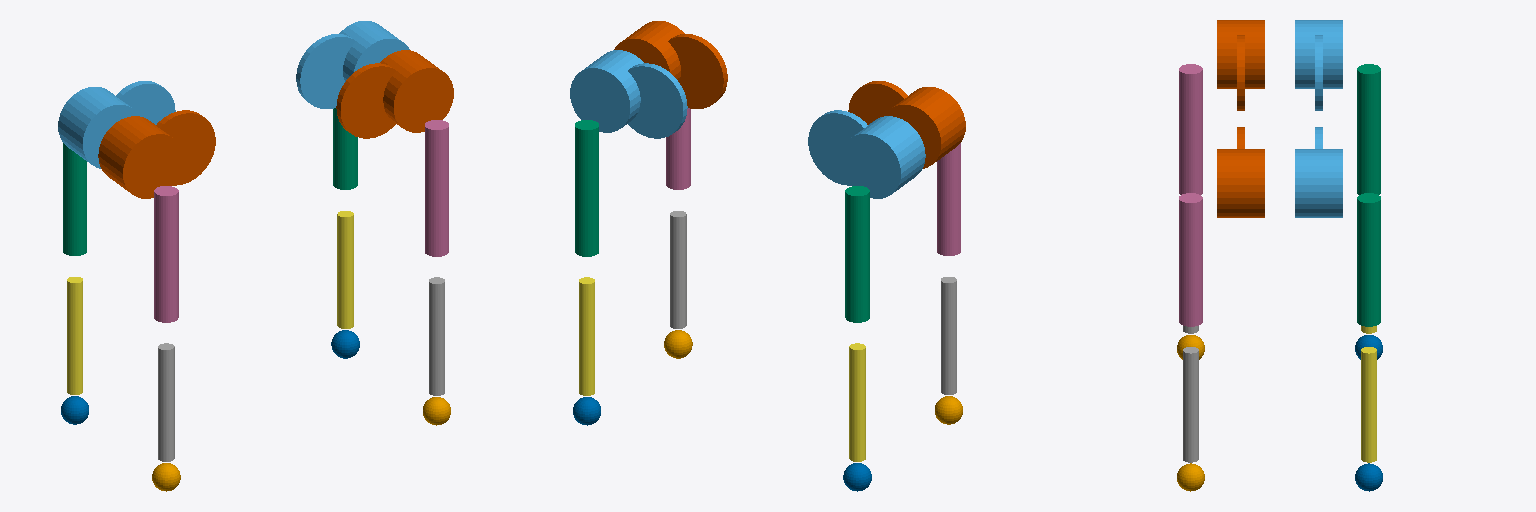
robot.urdf — mini_cheetah:
<?xml version="1.0" ?>
<robot name="mini_cheetah" xmlns:xacro="http://ros.org/wiki/xacro">



<!--!!!!!!!!!!!!!!!!!!BODY!!!!!!!!!!!!!!!!!!!!!!!!!!!!!!!-->
  <link name="body">
        <inertial>
            <!-- <mass value="3.3"/> -->
            <!-- <origin xyz="0.0 0.0 0.0"/> -->
            <origin xyz="-0.0233 0.0078 0.0414"/>
            <mass value="4.79"/>
            <!-- <inertia ixx="0.011253" ixy="0" ixz="0" iyy="0.036203" iyz="0" izz="0.042673"/> -->
            <inertia ixx="0.0358" ixy="0.0047" ixz="0.0090" iyy="0.0755" iyz="-0.0029" izz="0.0651"/>
        </inertial>
        <visual>
            <geometry>
              <mesh filename="meshes/mini_body.obj"/>
	        <!-- <box size="0.23 0.18 0.1"/>x` -->
            </geometry>
            <!-- <origin rpy="0.0 0.0 0.0" xyz="0.0 0.0 0.0"/> -->
            <origin rpy="0.0 0.0 0.0" xyz="-0.0233 0.0078 0.0414"/>
        </visual>
        <collision>
            <geometry>
              <!--mesh filename="meshes/mini_body.stl"/-->
	      <box size="0.23 0.18 0.1"/>
            </geometry>
            <!-- <origin rpy="0 0 0" xyz="0 0 0"/> -->
            <origin rpy="0.0 0.0 0.0" xyz="-0.0233 0.0078 0.0414"/>
        </collision>
    </link>           	

<!--!!!!!!!!!!!! Front Left Leg !!!!!!!!!!!!!!!!!!!!!!!!!!!!!!!!!!!!-->
    <joint name="torso_to_abduct_fl_j" type="revolute">
        <axis xyz="1 0 0"/>
        <origin rpy="0 0 0" xyz="0.19 0.049 0.0"/>
        <parent link="body"/>
        <child link="abduct_fl"/>
	<limit effort="18" lower="-1.6" upper="1.6" velocity="40"/>
    </joint>
    <link name="abduct_fl">
        <inertial>
            <mass value="0.54"/>
            <origin xyz="0.0 0.036 0."/>
            <inertia ixx="0.000381" ixy="0.000058" ixz="0.00000045" 
                iyy="0.000560" iyz="0.00000095" izz="0.000444"/>
        </inertial>
        <visual>
            <geometry>
              <!--mesh filename="meshes/mini_abad.stl"/-->
	      <cylinder length ="0.01" radius = "0.0475"/>
            </geometry>
            <origin rpy="0. 1.5708 -1.5708" xyz="-0.055 0.0 0.0"/>
        </visual>
	<visual>
            <geometry>
              <!-- mesh filename="meshes/mini_abad.stl"/ -->
	      <cylinder length ="0.06" radius = "0.0425"/>
            </geometry>
            <!--origin rpy="3.141592 0.0 1.5708" xyz="-0.055 0.0 0.0"/-->
	    <origin rpy="1.5708 0.0 0.0" xyz="0.0 0.0 0.0"/>
        </visual>
        <collision>
            <geometry>
              <!--mesh filename="meshes/mini_abad.stl"/-->
	      <cylinder length ="0.01" radius = "0.0475"/>
            </geometry>
            <!--origin rpy="0 0 -1.5708" xyz="-0.055 0 0"/-->
	    <origin rpy="0 1.5708 -1.5708" xyz="-0.055 0.0 0.0"/>
        </collision>
	<collision>
            <geometry>
              <!--mesh filename="meshes/mini_abad.stl"/-->
	      <cylinder length ="0.06" radius = "0.0425"/>
            </geometry>
            <!--origin rpy="0 0 -1.5708" xyz="-0.055 0 0"/-->
	    <origin rpy="1.5708 0.0 0.0" xyz="0.0 0.0 0.0"/>
        </collision>
    </link>

    <joint name="abduct_fl_to_thigh_fl_j" type="revolute">
        <axis xyz="0 1 0"/>
        <origin rpy="0.0 0.0 3.1415" xyz="0.0 0.062 0.00"/>
        <parent link="abduct_fl"/>
        <child link="thigh_fl"/>
	<limit effort="18" lower="-2.6" upper="2.6" velocity="40"/>
    </joint>
    <link name="thigh_fl">
        <inertial>
            <mass value="0.634"/>
            <origin xyz="0.0 0.016 -0.02"/>
            <inertia ixx="0.001983" ixy="0.000245" ixz="0.000013" 
                iyy="0.002103" iyz="0.0000015" izz="0.000408"/>
        </inertial>
        <visual>
            <geometry>
              <!--mesh filename="meshes/mini_upper_link.stl"/-->
	      <cylinder length ="0.17" radius = "0.015"/>
            </geometry>
            <origin rpy="0.0 0.0 0.0" xyz="0.0 0.0 -0.105"/>
        </visual>
        <collision>
            <geometry>
              <!--mesh filename="meshes/mini_upper_link.stl"/-->
	      <cylinder length ="0.17" radius = "0.015"/>
            </geometry>
            <origin rpy="0.0 0.0 0.0" xyz="0.0 0.0 -0.105"/>
        </collision>
    </link>

    <joint name="thigh_fl_to_knee_fl_j" type="revolute">
        <axis xyz="0 1 0"/>
        <origin rpy="0.0 0 0.0" xyz="0.0 0.0 -0.209"/>
        <parent link="thigh_fl"/>
        <child link="shank_fl"/>
	<limit effort="26" lower="-2.6" upper="2.6" velocity="26"/>
    </joint>
    <link name="shank_fl">
        <inertial>
            <mass value="0.064"/>
            <origin xyz="0.0 0.0 -0.061"/>
            <inertia ixx="0.000245" ixy="0" ixz="0.0" iyy="0.000248" iyz="0" izz="0.000006"/>
        </inertial>
        <visual>
            <geometry>
              <!--mesh filename="meshes/mini_lower_link.stl"/-->
	      <cylinder length ="0.15" radius = "0.01"/>
            </geometry>
            <origin rpy="0.0 3.141592 0.0" xyz="0.0 0.0 -0.095"/>
        </visual>
        <collision>
            <geometry>
              <!--mesh filename="meshes/mini_lower_link.stl"/-->
	      <cylinder length ="0.15" radius = "0.01"/>
            </geometry>
            <origin rpy="0.0 3.141592 0.0" xyz="0 0 -0.095"/>
        </collision>
    </link>
    <!-- Adapter to Foot joint -->
    <joint name="fixed_shank_to_foot" type="fixed">
        <parent link="shank_fl"/>
        <child link="foot_fl"/>
        <origin rpy="0.0 0.0 0.0" xyz="0.0 0.0 -0.195"/>
    </joint>
    <link name="foot_fl">
	<visual>
            <geometry>
              <sphere radius = "0.0175"/>
            </geometry>
            <origin rpy="0.0 3.141592 0.0" xyz="0.0 0.0 0.0"/>
        </visual>
	<collision>
            <geometry>
              <!--mesh filename="meshes/mini_lower_link.stl"/-->
	      <sphere radius = "0.0175"/>
            </geometry>
            <origin rpy="0.0 3.141592 0.0" xyz="0 0 0"/>
        </collision>
    </link>

 <!--!!!!!!!!!!!! Front Right Leg !!!!!!!!!!!!!!!!!!!!!!!!!!!!!!!!!!!!-->

    <!--!!!!Joint!!!!!!!!!!!!-->
    <joint name="torso_to_abduct_fr_j" type="revolute">
        <axis xyz="1 0 0"/>
        <origin rpy="0 0 0" xyz="0.19 -0.049 0.0"/>
        <parent link="body"/>
        <child link="abduct_fr"/>
	<limit effort="18" lower="-1.6" upper="1.6" velocity="40"/>
    </joint>
    <link name="abduct_fr">
        <inertial>
            <mass value="0.54"/>
            <origin xyz="0.0 -0.036 0."/>
            <inertia ixx="0.000381" ixy="-0.000058" ixz="0.00000045" 
                iyy="0.000560" iyz="-0.00000095" izz="0.000444"/>
        </inertial>
        <visual>
            <geometry>
              <!--mesh filename="meshes/mini_abad.stl"/-->
	      <cylinder length ="0.01" radius = "0.0475"/>
            </geometry>
            <!--origin rpy="3.141592 0.0 1.5708" xyz="-0.055 0.0 0.0"/-->
	    <origin rpy="3.141592 1.5708 1.5708" xyz="-0.055 0.0 0.0"/>
        </visual>
	<visual>
            <geometry>
              <!--mesh filename="meshes/mini_abad.stl"/-->
	      <cylinder length ="0.06" radius = "0.0425"/>
            </geometry>
            <!--origin rpy="3.141592 0.0 1.5708" xyz="-0.055 0.0 0.0"/-->
	    <origin rpy="1.5708 0.0 0.0" xyz="0.0 0.0 0.0"/>
        </visual>
        <collision>
            <geometry>
              <!--mesh filename="meshes/mini_abad.stl"/-->
	      <cylinder length ="0.01" radius = "0.0475"/>
            </geometry>
            <origin rpy="3.141592 1.5708 1.5708" xyz="-0.055 0 0"/>
        </collision>
	<collision>
            <geometry>
              <!--mesh filename="meshes/mini_abad.stl"/-->
	      <cylinder length ="0.06" radius = "0.0425"/>
            </geometry>
            <origin rpy="1.5708 0.0 0.0" xyz="-0.055 0 0"/>
        </collision>
    </link>

    <joint name="abduct_fr_to_thigh_fr_j" type="revolute">
        <axis xyz="0 1 0"/>
        <origin rpy="0.0 0.0 3.1415" xyz="0.0 -0.062 0.00"/>
        <parent link="abduct_fr"/>
        <child link="thigh_fr"/>
	<limit effort="18" lower="-2.6" upper="2.6" velocity="40"/>
    </joint>
    <link name="thigh_fr">
        <inertial>
            <mass value="0.634"/>
            <origin xyz="0.0 -0.016 -0.02"/>
            <inertia ixx="0.001983" ixy="-0.000245" ixz="0.000013" 
                iyy="0.002103" iyz="-0.0000015" izz="0.000408"/>
        </inertial>
        <visual>
            <geometry>
              <!--mesh filename="meshes/mini_upper_link.stl"/-->
	      <cylinder length ="0.17" radius = "0.015"/>
            </geometry>
            <origin rpy="0.0 0.0 0.0" xyz="0.0 0.0 -0.105"/>
        </visual>
        <collision>
            <geometry>
              <!--mesh filename="meshes/mini_upper_link.stl"/-->
	      <cylinder length ="0.17" radius = "0.015"/>
            </geometry>
            <origin rpy="0.0 0.0 0.0" xyz="0.0 0.0 -0.105"/>
        </collision>
    </link>

    <joint name="thigh_fr_to_knee_fr_j" type="revolute">
        <axis xyz="0 1 0"/>
        <origin rpy="0.0 0 0.0" xyz="0.0 0.0 -0.209"/>
        <parent link="thigh_fr"/>
        <child link="shank_fr"/>
	<limit effort="26" lower="-2.6" upper="2.6" velocity="26"/>
    </joint>
    <link name="shank_fr">
        <inertial>
            <mass value="0.064"/>
            <origin xyz="0.0 0.0 -0.061"/>
            <inertia ixx="0.000245" ixy="0" ixz="0.0" iyy="0.000248" iyz="0" izz="0.000006"/>
        </inertial>
        <visual>
            <geometry>
              <!--mesh filename="meshes/mini_lower_link.stl"/-->
	      <cylinder length ="0.15" radius = "0.01"/>
            </geometry>
            <origin rpy="0.0 3.141592 0.0" xyz="0.0 0.0 -0.095"/>
        </visual>
        <collision>
            <geometry>
              <!--mesh filename="meshes/mini_lower_link.stl"/-->
	      <cylinder length ="0.15" radius = "0.01"/>
            </geometry>
            <origin rpy="0.0 3.141592 0.0" xyz="0.0 0.0 -0.095"/>
        </collision>
    </link>

    <!-- Adapter to Foot joint -->
    <joint name="fixed_shank_to_foot_fr" type="fixed">
        <parent link="shank_fr"/>
        <child link="foot_fr"/>
        <origin rpy="0.0 0.0 0.0" xyz="0.0 0.0 -0.195"/>
    </joint>

    <link name="foot_fr">
	<visual>
            <geometry>
              <sphere radius = "0.0175"/>
            </geometry>
            <origin rpy="0.0 3.141592 0.0" xyz="0.0 0.0 0.0"/>
        </visual>
	<collision>
            <geometry>
              <!--mesh filename="meshes/mini_lower_link.stl"/-->
	       <sphere radius = "0.0175"/>
            </geometry>
            <origin rpy="0.0 3.141592 0" xyz="0.0 0.0 0"/>
        </collision>
    </link>


<!--!!!!!!!!!!!! Hind Left Leg !!!!!!!!!!!!!!!!!!!!!!!!!!!!!!!!!!!!-->
    <joint name="torso_to_abduct_hl_j" type="revolute">
        <axis xyz="1 0 0"/>
        <origin rpy="0 0 0" xyz="-0.19 0.049 0.0"/>
        <parent link="body"/>
        <child link="abduct_hl"/>
	<limit effort="18" lower="-1.6" upper="1.6" velocity="40"/>
    </joint>
    <link name="abduct_hl">
        <inertial>
            <mass value="0.54"/>
            <origin xyz="0.0 0.036 0."/>
            <inertia ixx="0.000381" ixy="0.000058" ixz="0.00000045" 
                iyy="0.000560" iyz="0.00000095" izz="0.000444"/>
        </inertial>
        <visual>
            <geometry>
              <!--mesh filename="meshes/mini_abad.stl"/-->
	      <cylinder length ="0.01" radius = "0.0475"/>
            </geometry>
            <!--origin rpy="3.141592 0.0 -1.5708" xyz="0.055 0.0 0.0"/-->
	    <origin rpy="3.141592 1.5708 -1.5708" xyz="0.055 0.0 0.0"/>
        </visual>
	<visual>
            <geometry>
              <!--mesh filename="meshes/mini_abad.stl"/-->
	      <cylinder length ="0.06" radius = "0.0425"/>
            </geometry>
            <!--origin rpy="3.141592 0.0 1.5708" xyz="-0.055 0.0 0.0"/-->
	    <origin rpy="1.5708 0.0 0.0" xyz="0.0 0.0 0.0"/>
        </visual>
        <collision>
            <geometry>
              <!--mesh filename="meshes/mini_abad.stl"/-->
	      <cylinder length ="0.01" radius = "0.0475"/>
            </geometry>
            <origin rpy="3.141592 1.5708 -1.5708" xyz="0.055 0 0"/>
        </collision>
	<collision>
            <geometry>
              <!--mesh filename="meshes/mini_abad.stl"/-->
	      <cylinder length ="0.06" radius = "0.0425"/>
            </geometry>
            <origin rpy="1.5708 0.0 0.0" xyz="0.0 0.0 0.0"/>
        </collision>
    </link>

    <joint name="abduct_hl_to_thigh_hl_j" type="revolute">
        <axis xyz="0 1 0"/>
        <origin rpy="0.0 0.0 3.1415" xyz="0.0 0.062 0.00"/>
        <parent link="abduct_hl"/>
        <child link="thigh_hl"/>
	<limit effort="18" lower="-2.6" upper="2.6" velocity="40"/>
    </joint>
    <link name="thigh_hl">
        <inertial>
            <mass value="0.634"/>
            <origin xyz="0.0 0.016 -0.02"/>
            <inertia ixx="0.001983" ixy="0.000245" ixz="0.000013" 
                iyy="0.002103" iyz="0.0000015" izz="0.000408"/>
        </inertial>
        <visual>
            <geometry>
              <!--mesh filename="meshes/mini_upper_link.stl"/-->
	      <cylinder length ="0.17" radius = "0.015"/>
            </geometry>
            <origin rpy="0.0 0.0 0.0" xyz="0.0 0.0 -0.105"/>
        </visual>
        <collision>
            <geometry>
              <!--mesh filename="meshes/mini_upper_link.stl"/-->
	      <cylinder length ="0.17" radius = "0.015"/>
            </geometry>
            <origin rpy="0.0 0.0 0.0" xyz="0.0 0.0 -0.105"/>
        </collision>
    </link>

    <joint name="thigh_hl_to_knee_hl_j" type="revolute">
        <axis xyz="0 1 0"/>
        <origin rpy="0.0 0 0.0" xyz="0.0 0.0 -0.209"/>
        <parent link="thigh_hl"/>
        <child link="shank_hl"/>
	<limit effort="26" lower="-2.6" upper="2.6" velocity="26"/>
    </joint>
    <link name="shank_hl">
        <inertial>
            <mass value="0.064"/>
            <origin xyz="0.0 0.0 -0.061"/>
            <inertia ixx="0.000245" ixy="0" ixz="0.0" iyy="0.000248" iyz="0" izz="0.000006"/>
        </inertial>
        <visual>
            <geometry>
              <!--mesh filename="meshes/mini_lower_link.stl"/-->
	      <cylinder length ="0.15" radius = "0.01"/>
            </geometry>
            <origin rpy="0.0 3.141592 0.0" xyz="0.0 0.0 -0.095"/>
        </visual>
        <collision>
            <geometry>
              <!--mesh filename="meshes/mini_lower_link.stl"/-->
	      <cylinder length ="0.15" radius = "0.01"/>
            </geometry>
            <origin rpy="0.0 3.141592 0.0" xyz="0.0 0.0 -0.095"/>
        </collision>
    </link>

    <!-- Adapter to Foot joint -->
    <joint name="fixed_shank_to_foot_hl" type="fixed">
        <parent link="shank_hl"/>
        <child link="foot_hl"/>
        <origin rpy="0.0 0.0 0.0" xyz="0.0 0.0 -0.195"/>
    </joint>

    <link name="foot_hl">
	<visual>
            <geometry>
              <sphere radius = "0.0175"/>
            </geometry>
            <origin rpy="0.0 3.141592 0.0" xyz="0.0 0.0 0.0"/>
        </visual>
	<collision>
            <geometry>
              <!--mesh filename="meshes/mini_lower_link.stl"/-->
	       <sphere radius = "0.0175"/>
            </geometry>
            <origin rpy="0.0 3.141592 0" xyz="0.0 0.0 0"/>
        </collision>
    </link>

    <!--!!!!!!!!!!!! Hind Right Leg !!!!!!!!!!!!!!!!!!!!!!!!!!!!!!!!!!!!-->
    <joint name="torso_to_abduct_hr_j" type="revolute">
        <axis xyz="1 0 0"/>
        <origin rpy="0 0 0" xyz="-0.19 -0.049 0.0"/>
        <parent link="body"/>
        <child link="abduct_hr"/>
	<limit effort="18" lower="-1.6" upper="1.6" velocity="40"/>
    </joint>
    <link name="abduct_hr">
        <inertial>
            <mass value="0.54"/>
            <origin xyz="0.0 -0.036 0."/>
            <inertia ixx="0.000381" ixy="-0.000058" ixz="0.00000045" 
                iyy="0.000560" iyz="-0.00000095" izz="0.000444"/>
        </inertial>
        <visual>
            <geometry>
              <!--mesh filename="meshes/mini_abad.stl"/-->
	      <cylinder length ="0.01" radius = "0.0475"/>
            </geometry>
            <!--origin rpy="0.0 0.0 1.5708" xyz="0.055 0.0 0.0"/-->
	    <origin rpy="0.0 1.5708 1.5708" xyz="0.055 0.0 0.0"/>
        </visual>
	<visual>
            <geometry>
              <!--mesh filename="meshes/mini_abad.stl"/-->
	      <cylinder length ="0.06" radius = "0.0425"/>
            </geometry>
            <!--origin rpy="3.141592 0.0 1.5708" xyz="-0.055 0.0 0.0"/-->
	    <origin rpy="1.5708 0.0 0.0" xyz="0.0 0.0 0.0"/>
        </visual>
        <collision>
            <geometry>
              <!--mesh filename="meshes/mini_abad.stl"/-->
	      <cylinder length ="0.01" radius = "0.0475"/>
            </geometry>
            <origin rpy="0.0 1.5708 1.5708" xyz="0.055 0.0 0.0"/>
        </collision>
	<collision>
            <geometry>
              <!--mesh filename="meshes/mini_abad.stl"/-->
	      <cylinder length ="0.06" radius = "0.0425"/>
            </geometry>
            <origin rpy="1.5708 0.0 0.0" xyz="0.0 0.0 0.0"/>
        </collision>
    </link>

    <joint name="abduct_hr_to_thigh_hr_j" type="revolute">
        <axis xyz="0 1 0"/>
        <origin rpy="0.0 0.0 3.1415" xyz="0.0 -0.062 0.00"/>
        <parent link="abduct_hr"/>
        <child link="thigh_hr"/>
	<limit effort="18" lower="-2.6" upper="2.6" velocity="40"/>
    </joint>
    <link name="thigh_hr">
        <inertial>
            <mass value="0.634"/>
            <origin xyz="0.0 -0.016 -0.02"/>
            <inertia ixx="0.001983" ixy="-0.000245" ixz="0.000013" 
                iyy="0.002103" iyz="-0.0000015" izz="0.000408"/>
        </inertial>
        <visual>
            <geometry>
              <!--mesh filename="meshes/mini_upper_link.stl"/-->
	      <cylinder length ="0.17" radius = "0.015"/>
            </geometry>
            <origin rpy="0.0 0.0 0.0" xyz="0.0 0.0 -0.105"/>
        </visual>
        <collision>
            <geometry>
              <!--mesh filename="meshes/mini_upper_link.stl"/-->
	      <cylinder length ="0.17" radius = "0.015"/>
            </geometry>
            <origin rpy="0.0 0.0 0.0" xyz="0.0 0.0 -0.105"/>
        </collision>
    </link>

    <joint name="thigh_hr_to_knee_hr_j" type="revolute">
        <axis xyz="0 1 0"/>
        <origin rpy="0.0 0 0.0" xyz="0.0 0.0 -0.209"/>
        <parent link="thigh_hr"/>
        <child link="shank_hr"/>
	<limit effort="26" lower="-2.6" upper="2.6" velocity="26"/>
    </joint>
    <link name="shank_hr">
        <inertial>
            <mass value="0.064"/>
            <origin xyz="0.0 0.0 -0.061"/>
            <inertia ixx="0.000245" ixy="0" ixz="0.0" iyy="0.000248" iyz="0" izz="0.000006"/>
        </inertial>
        <visual>
            <geometry>
              <!--mesh filename="meshes/mini_lower_link.stl"/-->
	      <cylinder length ="0.15" radius = "0.01"/>
            </geometry>
            <origin rpy="0.0 3.141592 0.0" xyz="0.0 0.0 -0.095"/>
        </visual>
        <collision>
            <geometry>
              <!--mesh filename="meshes/mini_lower_link.stl"/-->
	      <cylinder length ="0.15" radius = "0.01"/>
            </geometry>
            <origin rpy="0.0 3.141592 0.0" xyz="0 0 -0.095"/>
        </collision>

    </link>

    <!-- Adapter to Foot joint -->
    <joint name="fixed_shank_to_foot_hr" type="fixed">
        <parent link="shank_hr"/>
        <child link="foot_hr"/>
        <origin rpy="0.0 0.0 0.0" xyz="0.0 0.0 -0.195"/>
    </joint>

    <link name="foot_hr">
	<visual>
            <geometry>
              <sphere radius = "0.0175"/>
            </geometry>
            <origin rpy="0.0 3.141592 0.0" xyz="0.0 0.0 0.0"/>
        </visual>
	<collision>
            <geometry>
              <!--mesh filename="meshes/mini_lower_link.stl"/-->
	       <sphere radius = "0.0175"/>
            </geometry>
            <origin rpy="0.0 3.141592 0" xyz="0.0 0.0 0"/>
        </collision>
    </link>
</robot>

--- Render facts (derived) ---
The picture shows the robot from 3 angles, left to right: view 1: azimuth 30°, elevation 25°; view 2: azimuth 150°, elevation 25°; view 3: azimuth 270°, elevation 25°; orthographic projection.
Model mini_cheetah with 17 links and 16 joints (12 revolute, 4 fixed), rooted at body, posed all joints at 0.
Links seen in each view (by area): view 1: abduct_fr, abduct_hr, abduct_hl, abduct_fl, thigh_hr, thigh_fr, thigh_hl, shank_hr, shank_fl, shank_fr, shank_hl, thigh_fl (+4 smaller); view 2: abduct_fl, abduct_hl, abduct_hr, abduct_fr, thigh_hl, thigh_fl, thigh_hr, shank_hl, shank_fr, shank_fl, shank_hr, thigh_fr (+4 smaller); view 3: abduct_fl, abduct_fr, abduct_hl, abduct_hr, thigh_fl, thigh_fr, thigh_hl, thigh_hr, shank_fl, shank_fr, foot_fl, foot_fr.
Boxes of the visible links, box(x1,y1,x2,y2) form: abduct_fr: box(336, 50, 453, 138); abduct_hr: box(98, 110, 215, 198); abduct_hl: box(58, 81, 175, 168); abduct_fl: box(296, 21, 409, 108); thigh_hr: box(154, 186, 178, 322); thigh_fr: box(425, 120, 448, 256); thigh_hl: box(63, 143, 86, 255); shank_hr: box(158, 343, 174, 461); shank_fl: box(337, 211, 353, 328); shank_fr: box(429, 277, 444, 395); shank_hl: box(67, 277, 82, 394); thigh_fl: box(333, 108, 357, 189); abduct_fl: box(570, 50, 687, 138); abduct_hl: box(808, 110, 925, 198); abduct_hr: box(848, 81, 965, 168); abduct_fr: box(614, 21, 727, 108); thigh_hl: box(845, 186, 869, 322); thigh_fl: box(575, 120, 598, 256); thigh_hr: box(937, 143, 960, 255); shank_hl: box(849, 343, 865, 461); shank_fr: box(670, 211, 686, 328); shank_fl: box(579, 277, 594, 395); shank_hr: box(941, 277, 956, 394); thigh_fr: box(666, 108, 690, 189); abduct_fl: box(1295, 127, 1342, 217); abduct_fr: box(1217, 127, 1264, 217); abduct_hl: box(1295, 20, 1342, 110); abduct_hr: box(1217, 20, 1264, 110); thigh_fl: box(1357, 193, 1380, 326); thigh_fr: box(1179, 193, 1202, 326); thigh_hl: box(1357, 64, 1380, 194); thigh_hr: box(1179, 64, 1202, 194); shank_fl: box(1361, 347, 1376, 462); shank_fr: box(1183, 347, 1198, 462); foot_fl: box(1355, 463, 1382, 491); foot_fr: box(1177, 463, 1204, 491).
Bounding box of the posed robot: 0.465 × 0.257 × 0.469 m (x, y, z).
Meshes: 1 distinct files referenced, 0 mesh visuals loaded (none loaded); not drawn: 1 (reference not matched to a file when rendering).
